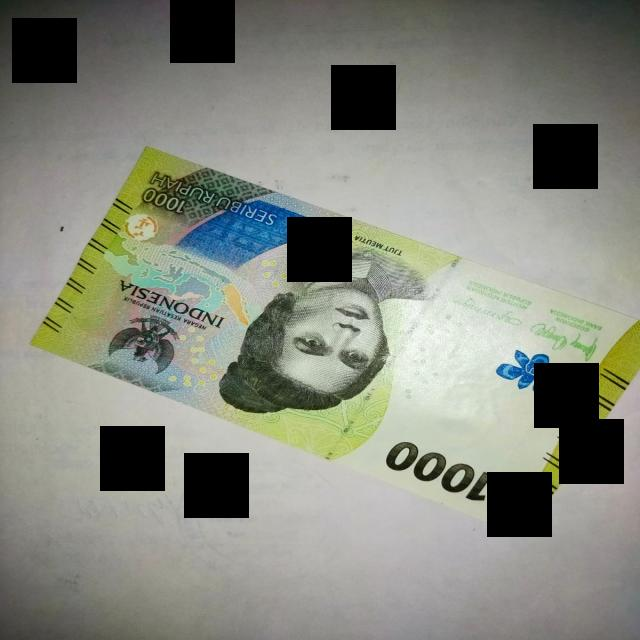seribu rupiah: (32, 149, 638, 532)
